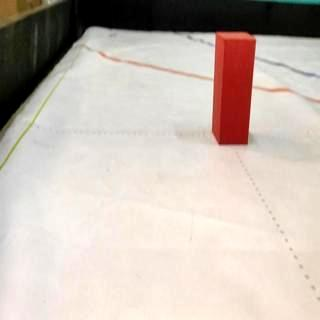redbox: (212, 31, 256, 146)
